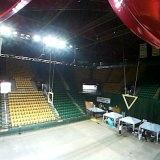Yellow_Square_GShape: (48, 92, 54, 105)
Yellow_Triangle_Gshape: (122, 93, 137, 110)
